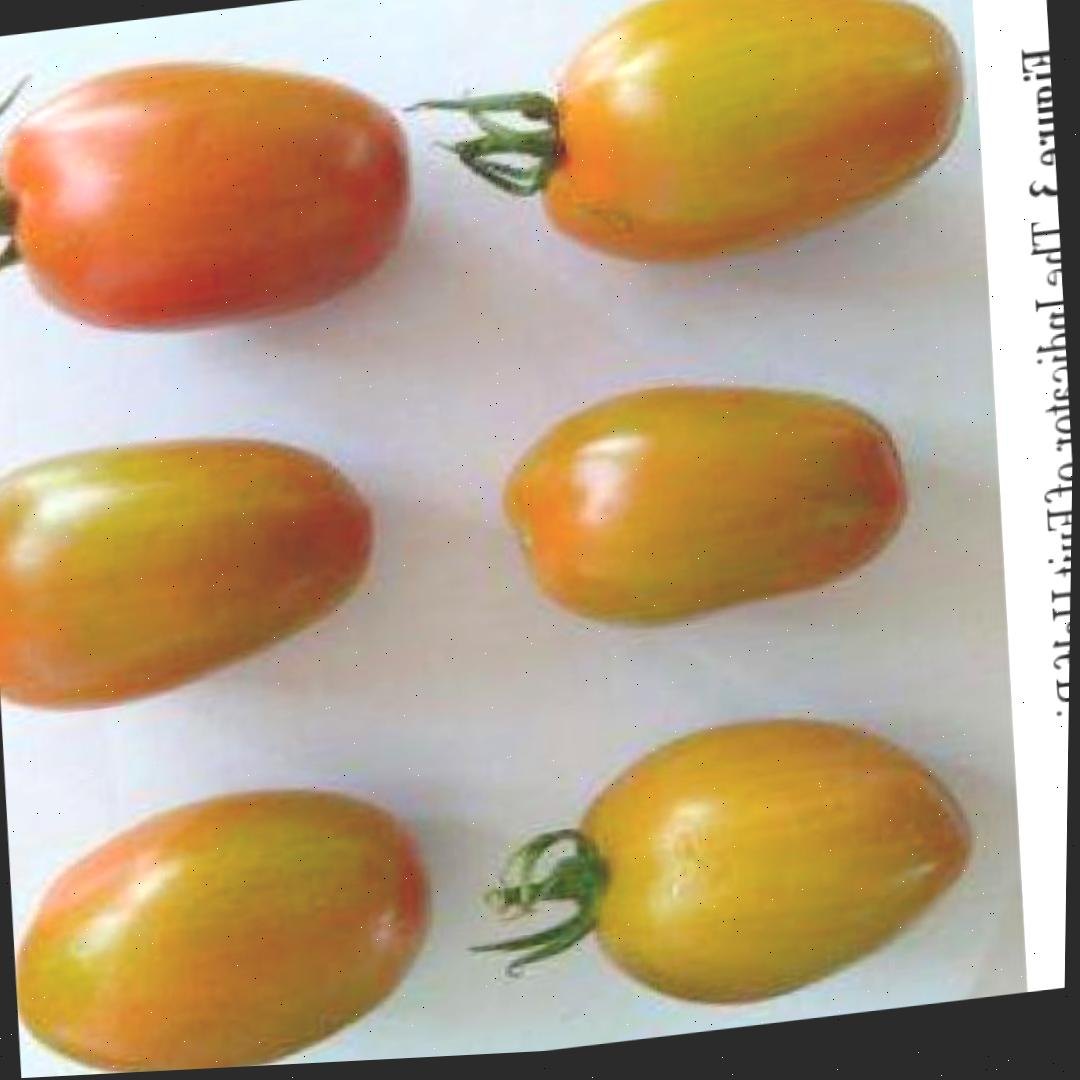setengah_matang: (555, 690, 986, 1027), (0, 28, 419, 358), (2, 766, 442, 1079), (490, 351, 920, 646), (523, 0, 971, 280), (0, 410, 386, 724)
